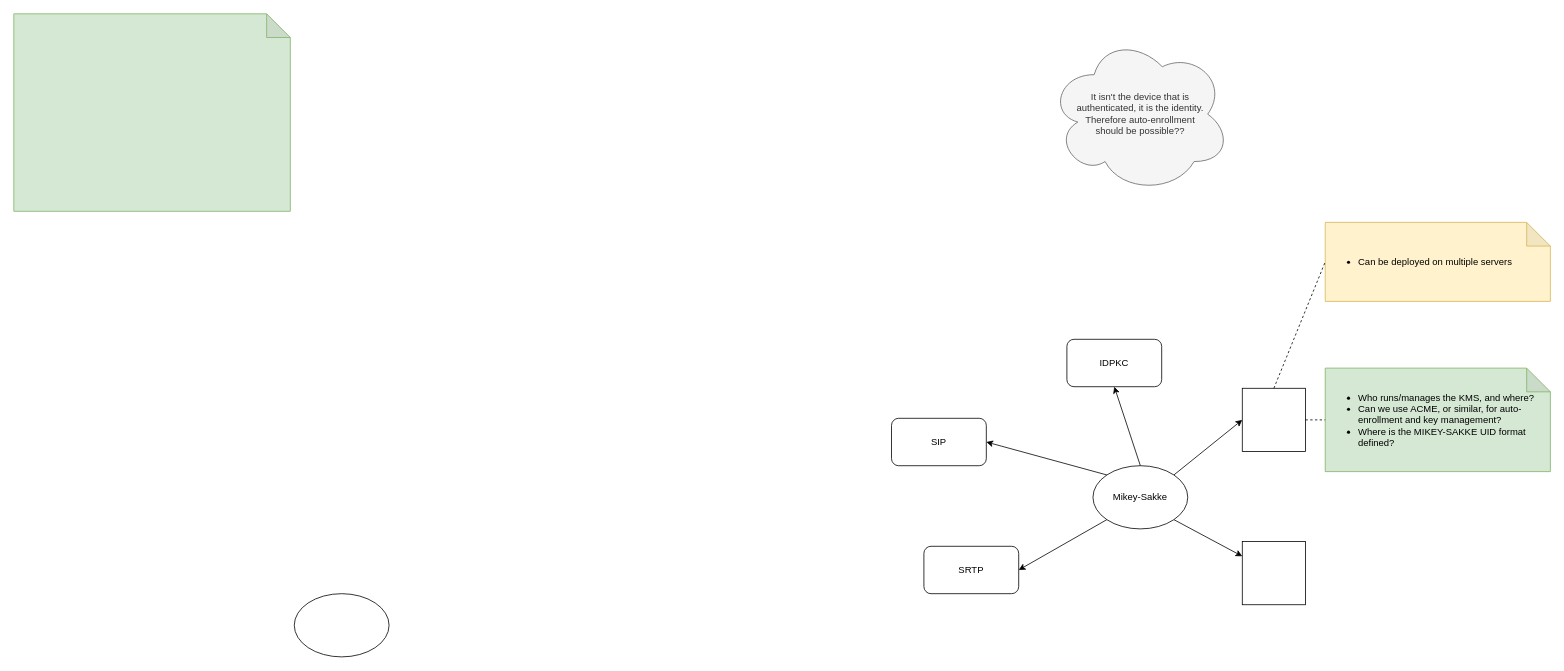
The diagram is 1564 pixels wide and 671 high, and some of its shapes have lost their labels. Each missing label, with the box of its shape:
Domains: (293, 593, 389, 657)
Key Host (online): (1241, 541, 1305, 605)
KMS (offline, or online with HSM and assured diode): (1241, 387, 1305, 451)
Why are we not using IPV6?: (13, 13, 290, 211)
